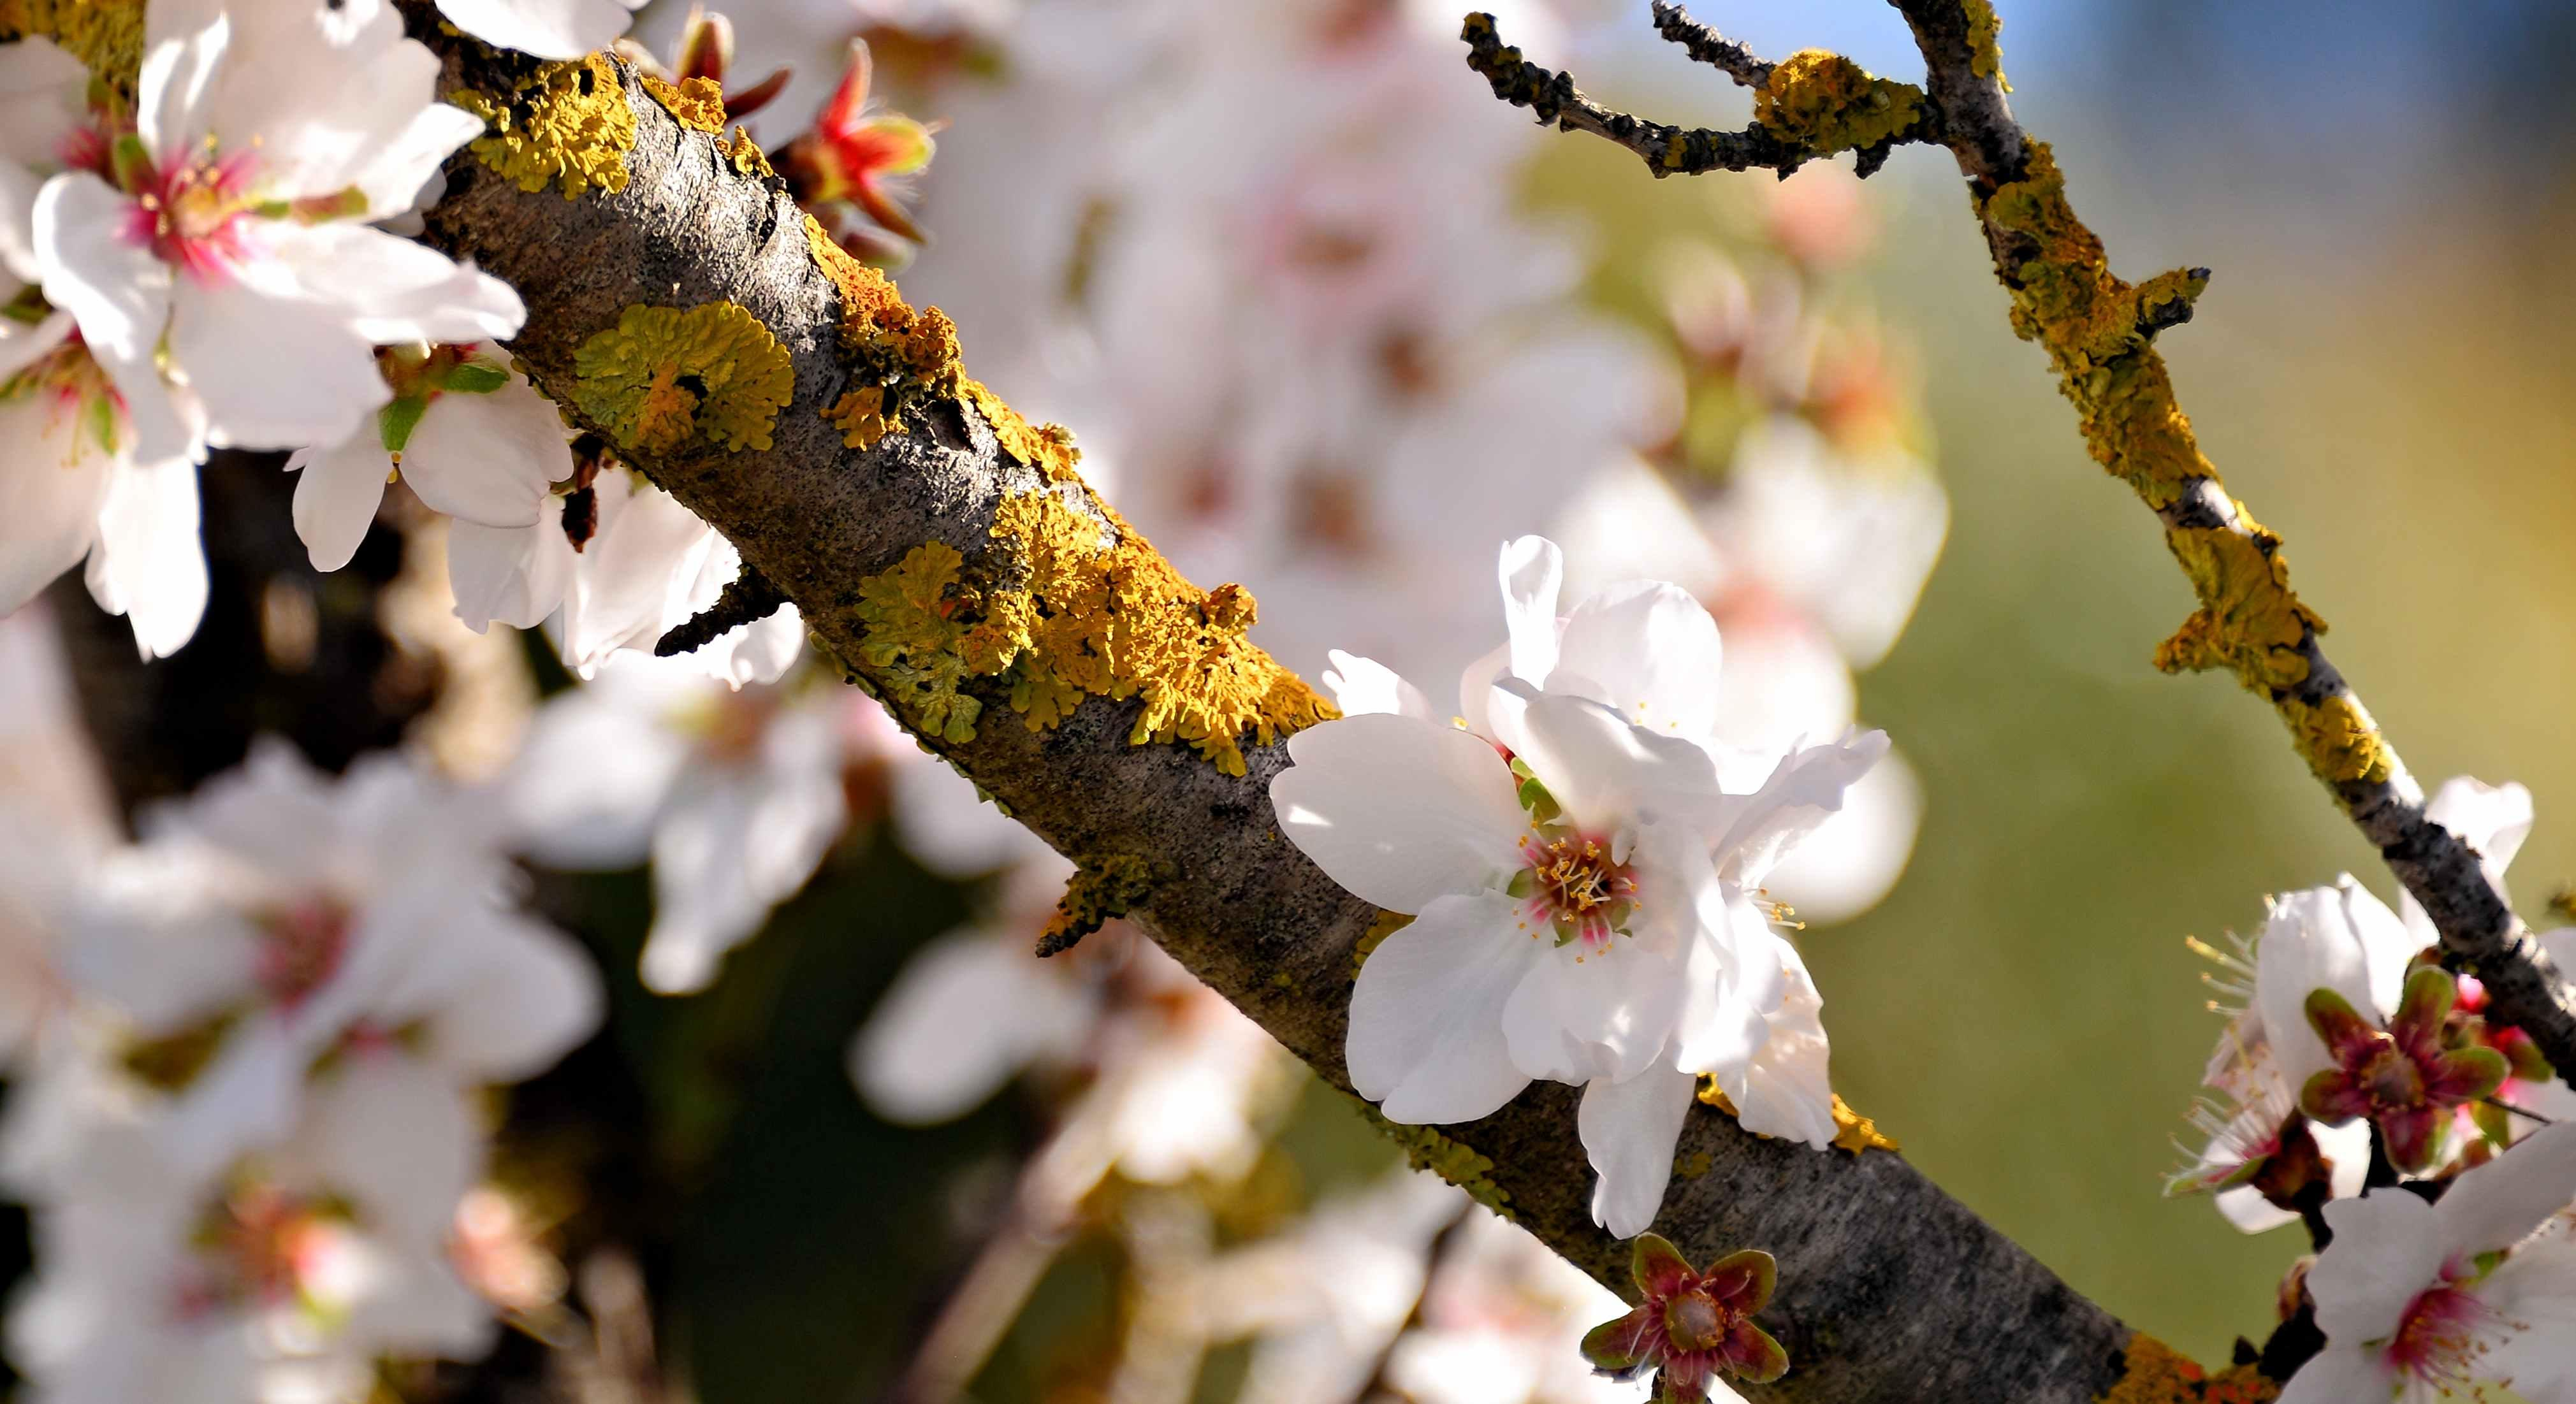lichen: (1988, 140, 2384, 792), (958, 495, 1338, 776), (572, 301, 792, 455), (819, 252, 961, 448), (451, 52, 634, 199), (854, 543, 980, 740)
